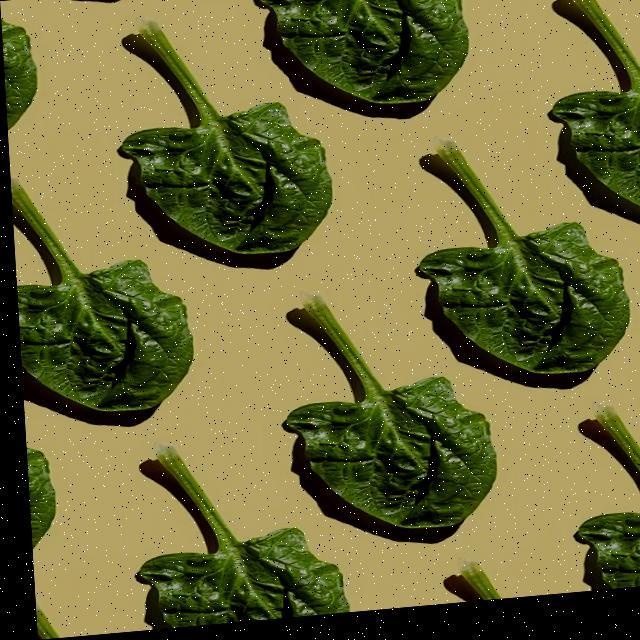Spinach: (367, 116, 640, 406), (85, 3, 355, 277), (265, 273, 510, 558), (9, 159, 212, 426), (118, 420, 362, 633), (241, 0, 493, 138), (535, 0, 640, 246)
